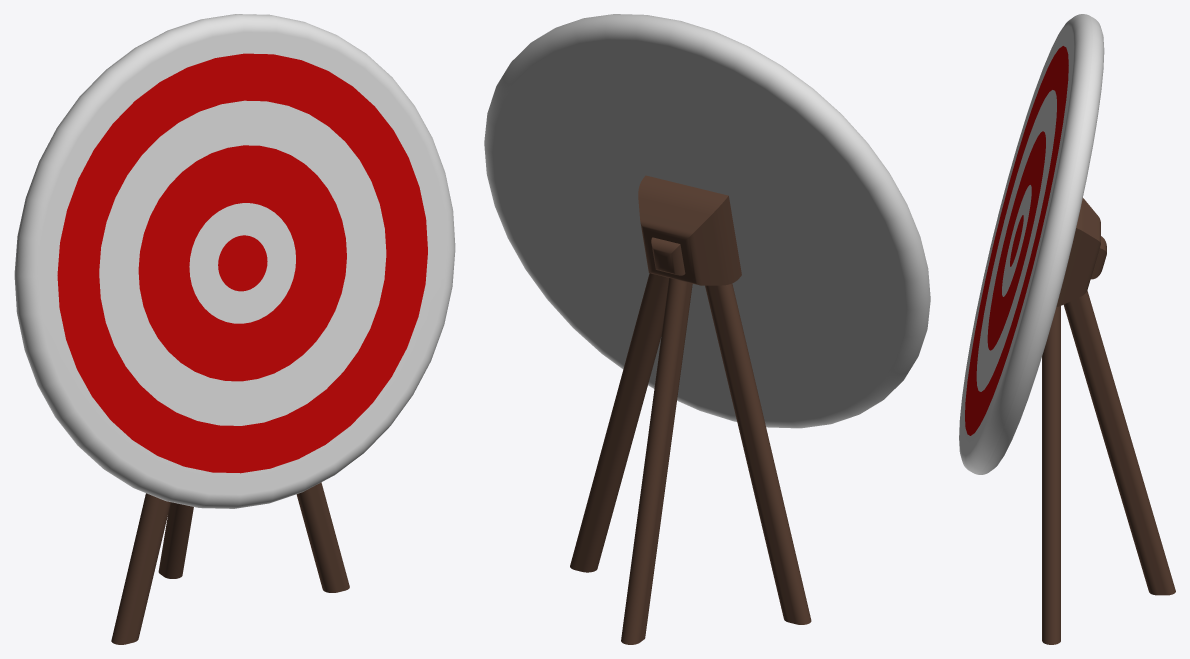
The model's file is Target.fbx.
3 renders of one model, left to right at view 1: azimuth 30°, elevation 25°; view 2: azimuth 150°, elevation 25°; view 3: azimuth 270°, elevation 25°, orthographic. The views are drawn at different scales.
Visible parts, largest first — view 1: Target; view 2: Target; view 3: Target.
Boxes of the visible parts, x1=… form: Target: x1=14, y1=14, x2=455, y2=644; Target: x1=484, y1=14, x2=930, y2=644; Target: x1=959, y1=14, x2=1175, y2=644.
Size of the model in its own units: 21.41 by 27.56 by 9.81.
